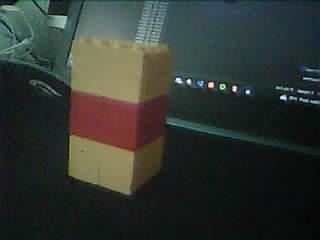lego: (67, 36, 172, 195)
